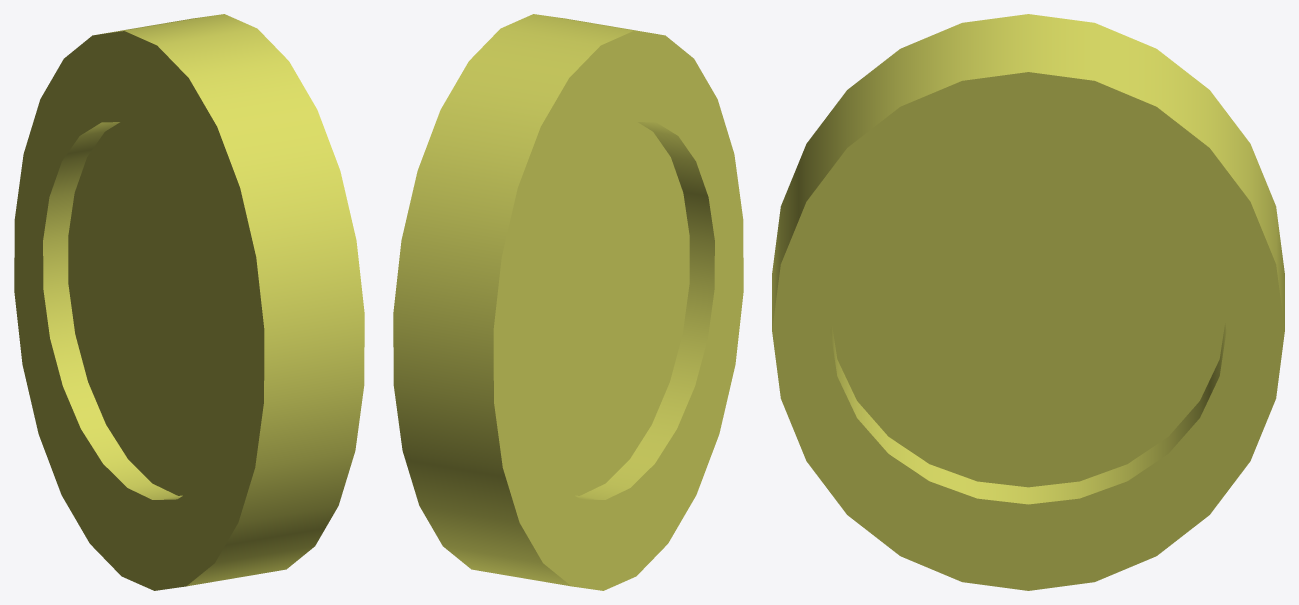
The model's file is Coin_Texture.fbx.
3 renders of one model, left to right at view 1: azimuth 30°, elevation 25°; view 2: azimuth 150°, elevation 25°; view 3: azimuth 270°, elevation 25°, orthographic. The views are drawn at different scales.
Visible parts, largest first — view 1: pDisc1; view 2: pDisc1; view 3: pDisc1.
Part boxes in pixels (x1,y1,x2,y2): pDisc1: [14, 14, 364, 590]; pDisc1: [393, 14, 743, 590]; pDisc1: [772, 14, 1284, 590].
Size of the model in its own units: 0.8153 by 3.04 by 2.59.
